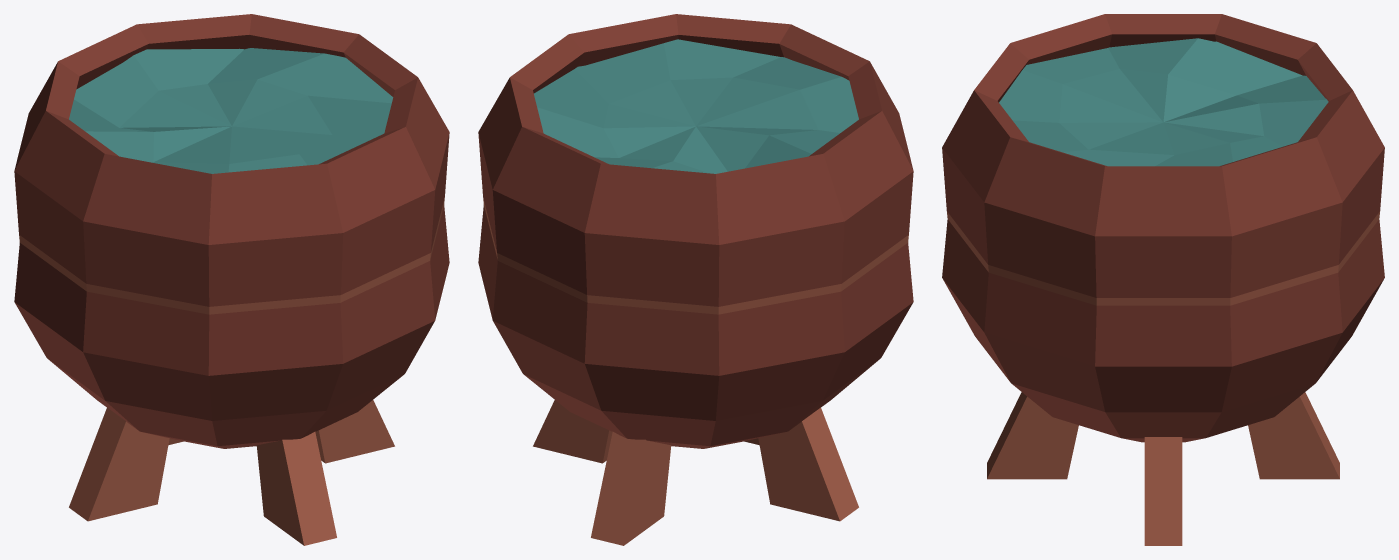
File: Cauldron_4_Red.fbx
3 renders of one model, left to right at view 1: azimuth 30°, elevation 25°; view 2: azimuth 150°, elevation 25°; view 3: azimuth 270°, elevation 25°, orthographic.
Parts seen in each view (by area): view 1: Cauldron_1_Red_Part_1, Cauldron_1_Red_Part_3, Cauldron_1_Red_Part_2; view 2: Cauldron_1_Red_Part_1, Cauldron_1_Red_Part_3, Cauldron_1_Red_Part_2; view 3: Cauldron_1_Red_Part_1, Cauldron_1_Red_Part_3, Cauldron_1_Red_Part_2.
Boxes of the visible parts, box(x1,y1,x2,y2) form: Cauldron_1_Red_Part_1: box(14, 14, 449, 448); Cauldron_1_Red_Part_3: box(69, 48, 393, 173); Cauldron_1_Red_Part_2: box(19, 197, 444, 545); Cauldron_1_Red_Part_1: box(478, 14, 913, 448); Cauldron_1_Red_Part_3: box(534, 39, 858, 173); Cauldron_1_Red_Part_2: box(483, 197, 908, 545); Cauldron_1_Red_Part_1: box(942, 14, 1384, 442); Cauldron_1_Red_Part_3: box(999, 38, 1328, 166); Cauldron_1_Red_Part_2: box(947, 211, 1379, 545).
Size of the model in its own units: 95.89 by 95.75 by 101.
